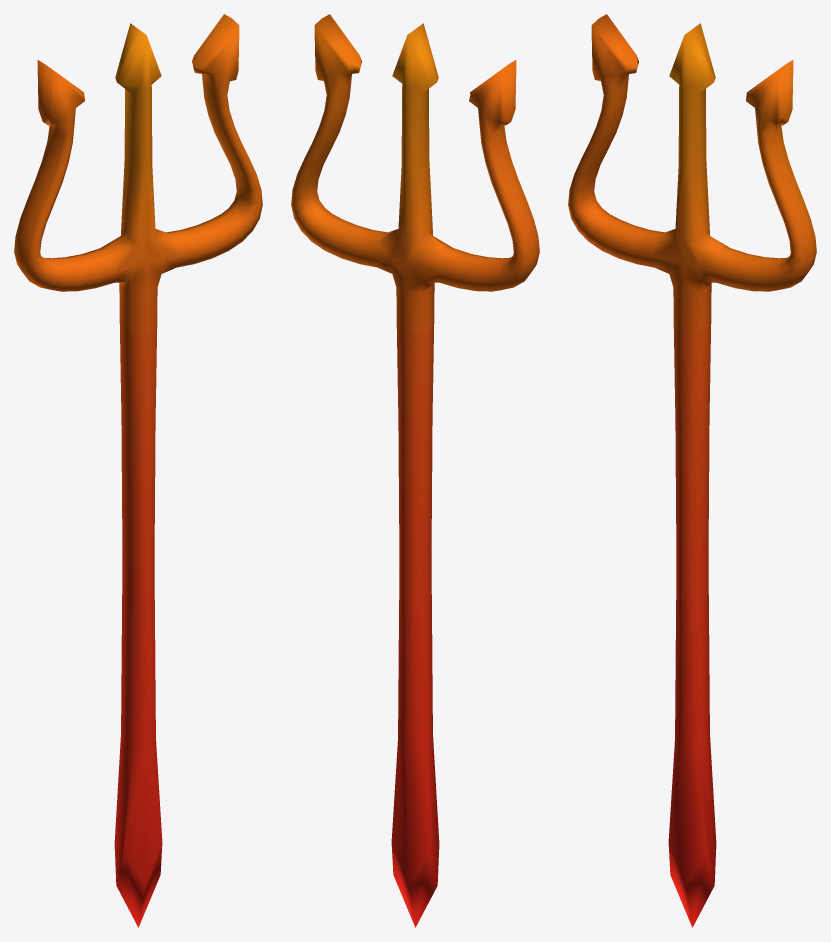
The model's file is wpms cap6a.fbx.
3 renders of one model, left to right at view 1: azimuth 30°, elevation 25°; view 2: azimuth 150°, elevation 25°; view 3: azimuth 330°, elevation 25°, orthographic.
Visible parts, largest first — view 1: wpms_cap6a; view 2: wpms_cap6a; view 3: wpms_cap6a.
Part boxes in pixels (x1,y1,x2,y2): wpms_cap6a: [14, 14, 262, 927]; wpms_cap6a: [291, 14, 539, 927]; wpms_cap6a: [568, 14, 816, 927].
Bounding box in the file's own units: 55.99 × 201 × 7.41.
1 material, 1 textured.
